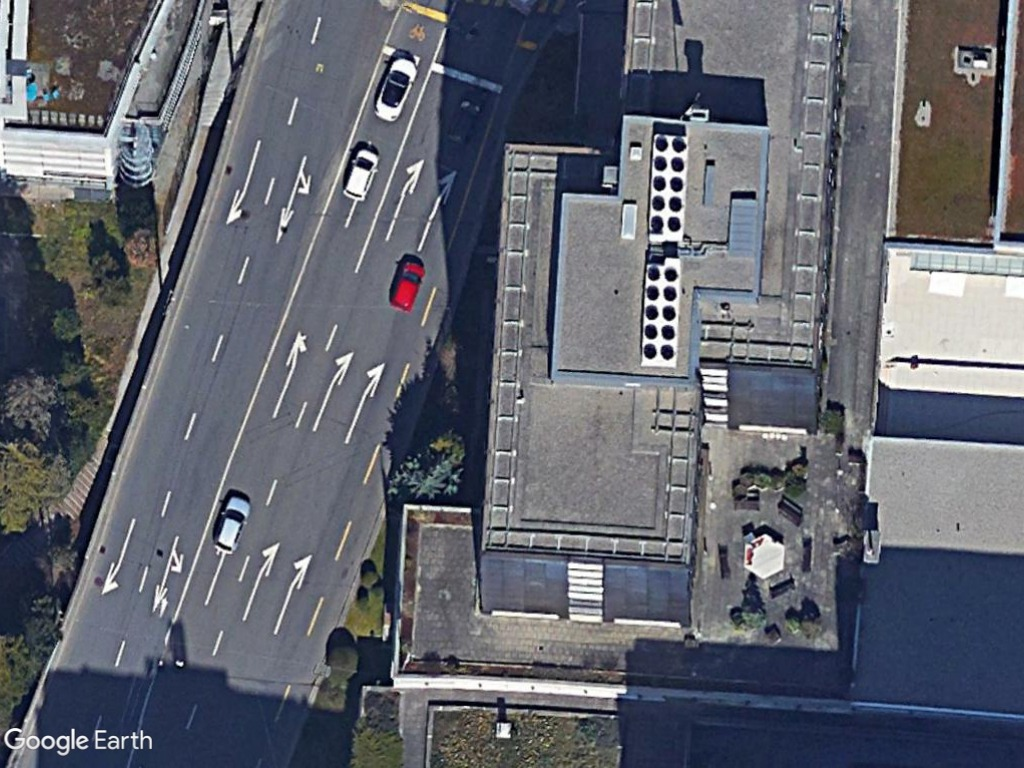car: (372, 57, 419, 121), (212, 494, 254, 554), (341, 147, 381, 202), (388, 259, 427, 314)
